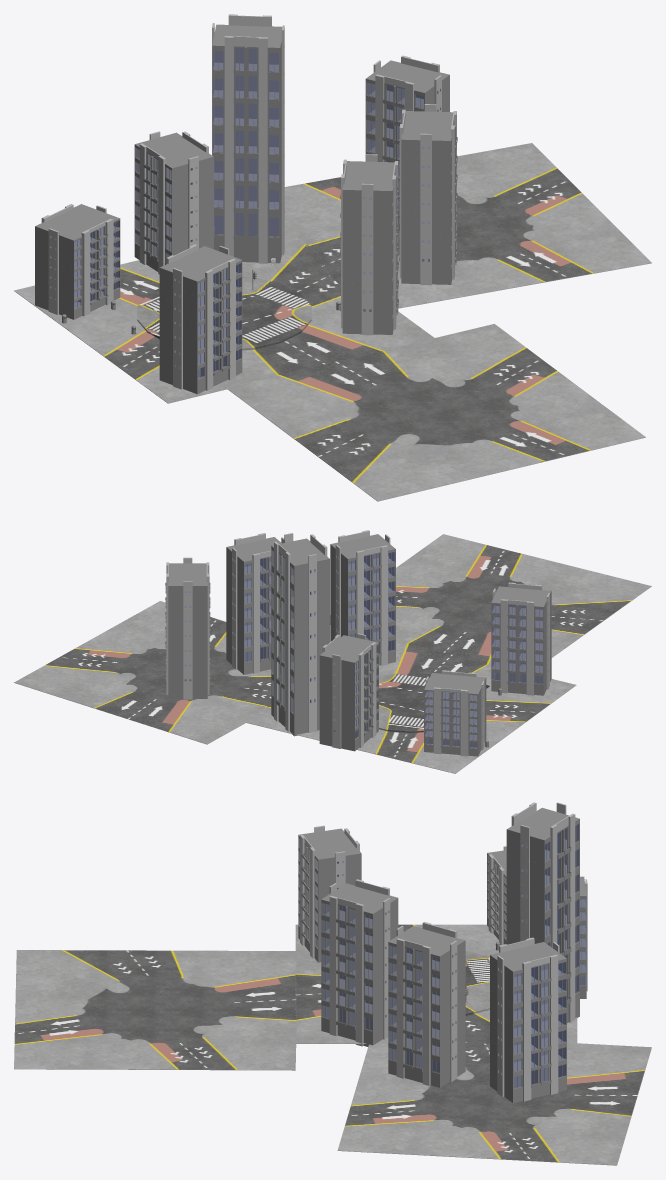
File: SRMA_Arena.FBX
3 renders of one model, top to bottom at view 1: azimuth 30°, elevation 25°; view 2: azimuth 150°, elevation 25°; view 3: azimuth 270°, elevation 25°, orthographic. The views are drawn at different scales.
Parts seen in each view (by area): view 1: Box003, Box002, Building_Final003, Box001, Building_Final001, Building_Final005, Building_Final004, Building_Final, Building_Final002, Building_Final006, Cylinder001; view 2: Box003, Box002, Building_Final003, Box001, Building_Final004, Building_Final001, Building_Final, Building_Final006, Building_Final005, Building_Final002, Cylinder001; view 3: Box003, Box002, Building_Final005, Building_Final006, Building_Final003, Building_Final004, Box001, Building_Final001, Building_Final002, Cylinder001, Building_Final.
Part boxes in pixels (left/top/right/bottom): Box003: left=226, top=324, right=645, bottom=501; Box002: left=284, top=143, right=651, bottom=308; Building_Final003: left=212, top=14, right=284, bottom=263; Box001: left=14, top=228, right=434, bottom=403; Building_Final001: left=159, top=244, right=242, bottom=394; Building_Final005: left=399, top=104, right=457, bottom=285; Building_Final004: left=340, top=154, right=398, bottom=335; Building_Final: left=134, top=131, right=213, bottom=274; Building_Final002: left=35, top=204, right=120, bottom=319; Building_Final006: left=365, top=55, right=449, bottom=230; Cylinder001: left=137, top=276, right=311, bottom=350; Box003: left=330, top=534, right=651, bottom=664; Box002: left=14, top=601, right=271, bottom=744; Building_Final003: left=271, top=533, right=329, bottom=736; Box001: left=246, top=641, right=576, bottom=773; Building_Final004: left=330, top=530, right=395, bottom=665; Building_Final001: left=491, top=582, right=551, bottom=695; Building_Final: left=319, top=633, right=378, bottom=751; Building_Final006: left=165, top=557, right=210, bottom=699; Building_Final005: left=226, top=533, right=284, bottom=674; Building_Final002: left=424, top=670, right=486, bottom=756; Cylinder001: left=379, top=673, right=430, bottom=732; Box003: left=14, top=950, right=298, bottom=1070; Box002: left=337, top=1039, right=651, bottom=1165; Building_Final005: left=388, top=921, right=465, bottom=1087; Building_Final006: left=490, top=937, right=566, bottom=1103; Building_Final003: left=506, top=802, right=579, bottom=1022; Building_Final004: left=321, top=879, right=398, bottom=1046; Box001: left=295, top=924, right=577, bottom=1043; Building_Final001: left=298, top=825, right=361, bottom=962; Building_Final002: left=487, top=846, right=506, bottom=945; Cylinder001: left=465, top=951, right=489, bottom=1015; Building_Final: left=580, top=876, right=587, bottom=998.
Size of the model in its own units: 21172 by 8640 by 23543.
